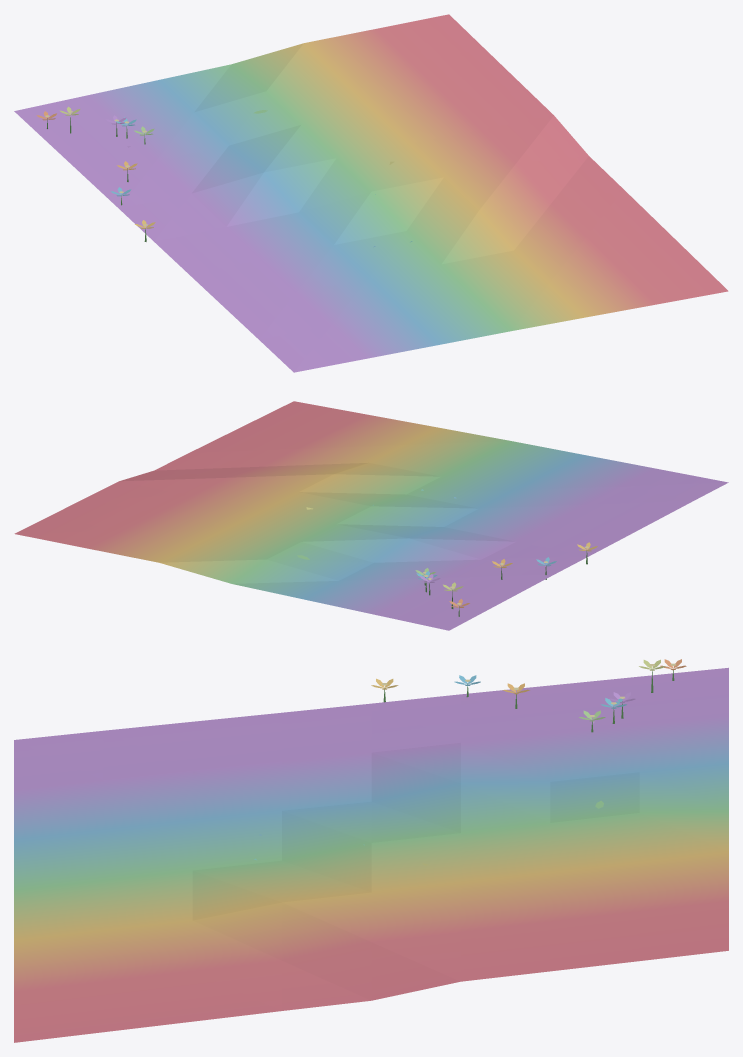
The model's file is rb_endcap_meadow.glb.
3 views of the same model, one above another, from view 1: azimuth 30°, elevation 25°; view 2: azimuth 150°, elevation 25°; view 3: azimuth 270°, elevation 25° (orthographic). The views are drawn at different scales.
Parts seen in each view (by area): view 1: rb_end_halo, rb_end_petals; view 2: rb_end_halo, rb_end_petals; view 3: rb_end_halo, rb_end_petals.
Part boxes in pixels (box(x1,y1,x2,y2)): rb_end_halo: box(14, 14, 728, 372); rb_end_petals: box(36, 106, 412, 247); rb_end_halo: box(14, 401, 728, 630); rb_end_petals: box(297, 489, 597, 616); rb_end_halo: box(14, 667, 728, 1042); rb_end_petals: box(254, 659, 686, 865).
Bounding box in the file's own units: 3.59 × 0.7446 × 3.9.
